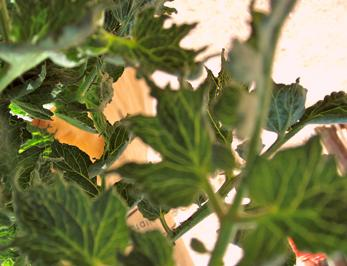Tomato leaf mosaic virus: (220, 143, 347, 266), (134, 94, 232, 207), (15, 176, 131, 266), (118, 11, 207, 75), (38, 128, 107, 198), (8, 0, 77, 52), (298, 77, 347, 130)
